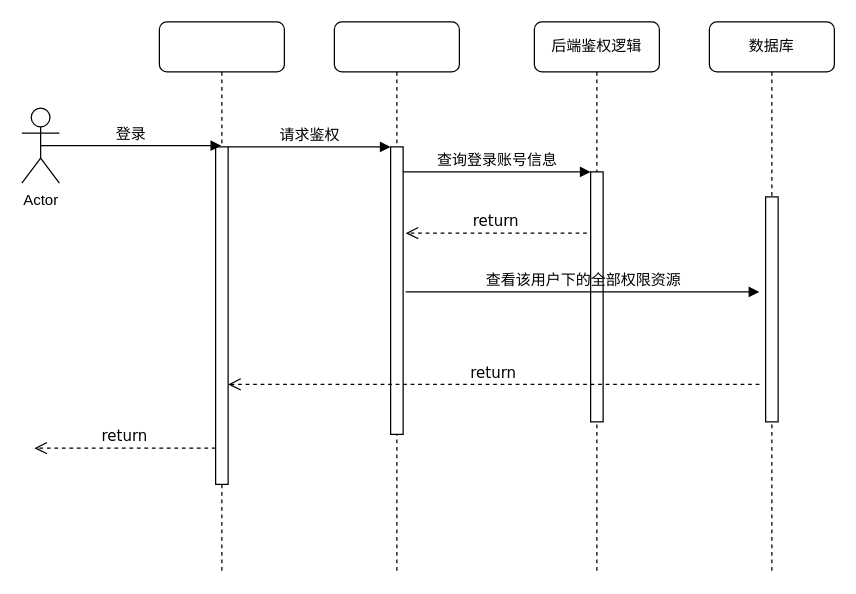
This 856x594 diagram has some shape labels left out. The shapes that lost their labels are listed below. From the top down, each one's box as (x1, y1, x2, y2) in pixels, then its label:
(158, 21, 284, 572): view页面
(333, 21, 459, 572): 后端鉴权接口
